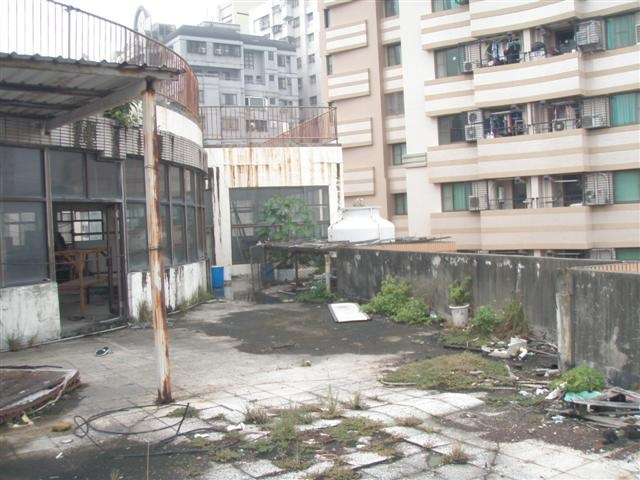bottle: (449, 302, 470, 329)
bucket: (211, 265, 225, 290)
water_tower: (327, 205, 396, 245)
